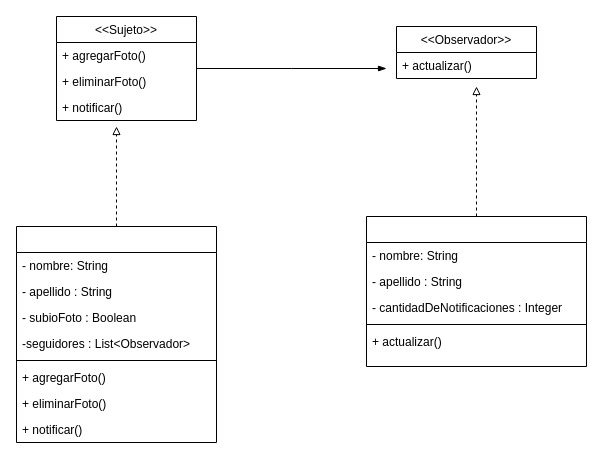
Some shapes in this 603 by 459 pixel diagram are drawn without their labels. The shapes that lost their labels are listed below. From the top down, each one's box as (x1, y1, x2, y2) in pixels, then its label:
(366, 216, 586, 366): Seguidor
(16, 226, 216, 442): Usuario
